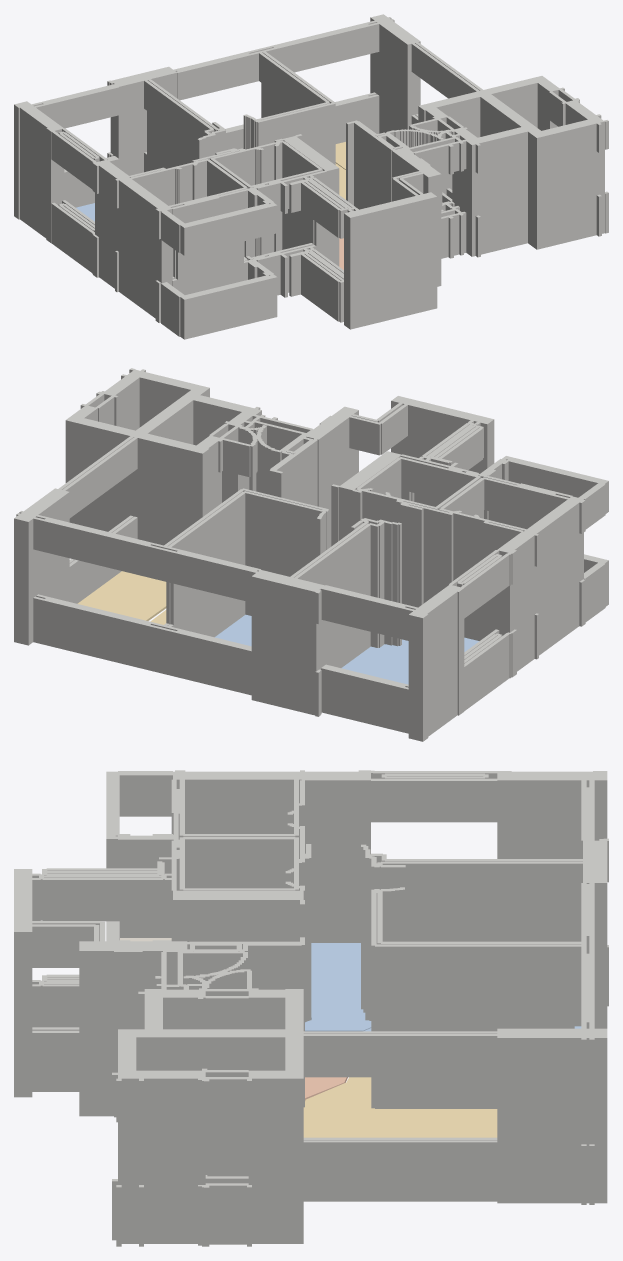
3 views of the same model, one above another, from view 1: azimuth 30°, elevation 25°; view 2: azimuth 150°, elevation 25°; view 3: azimuth 270°, elevation 25° (orthographic). The views are drawn at different scales.
Visible parts, largest first — view 1: walls; view 2: walls, room:living:3, room:bedroom:0, room:bedroom:1; view 3: walls, room:living:2, room:bedroom:0.
Part boxes in pixels (left/top/right/bottom): walls: left=14, top=14, right=608, bottom=339; walls: left=14, top=368, right=608, bottom=741; room:living:3: left=77, top=571, right=166, bottom=620; room:bedroom:0: left=341, top=637, right=479, bottom=684; room:bedroom:1: left=215, top=614, right=251, bottom=646; walls: left=14, top=770, right=608, bottom=1246; room:living:2: left=303, top=1077, right=497, bottom=1137; room:bedroom:0: left=305, top=943, right=371, bottom=1031.
Size of the model in its own units: 11.29 by 2.8 by 9.13.
